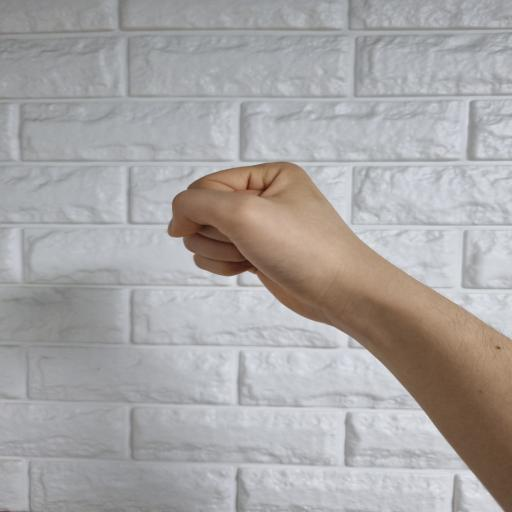Rock: (167, 161, 396, 333)
